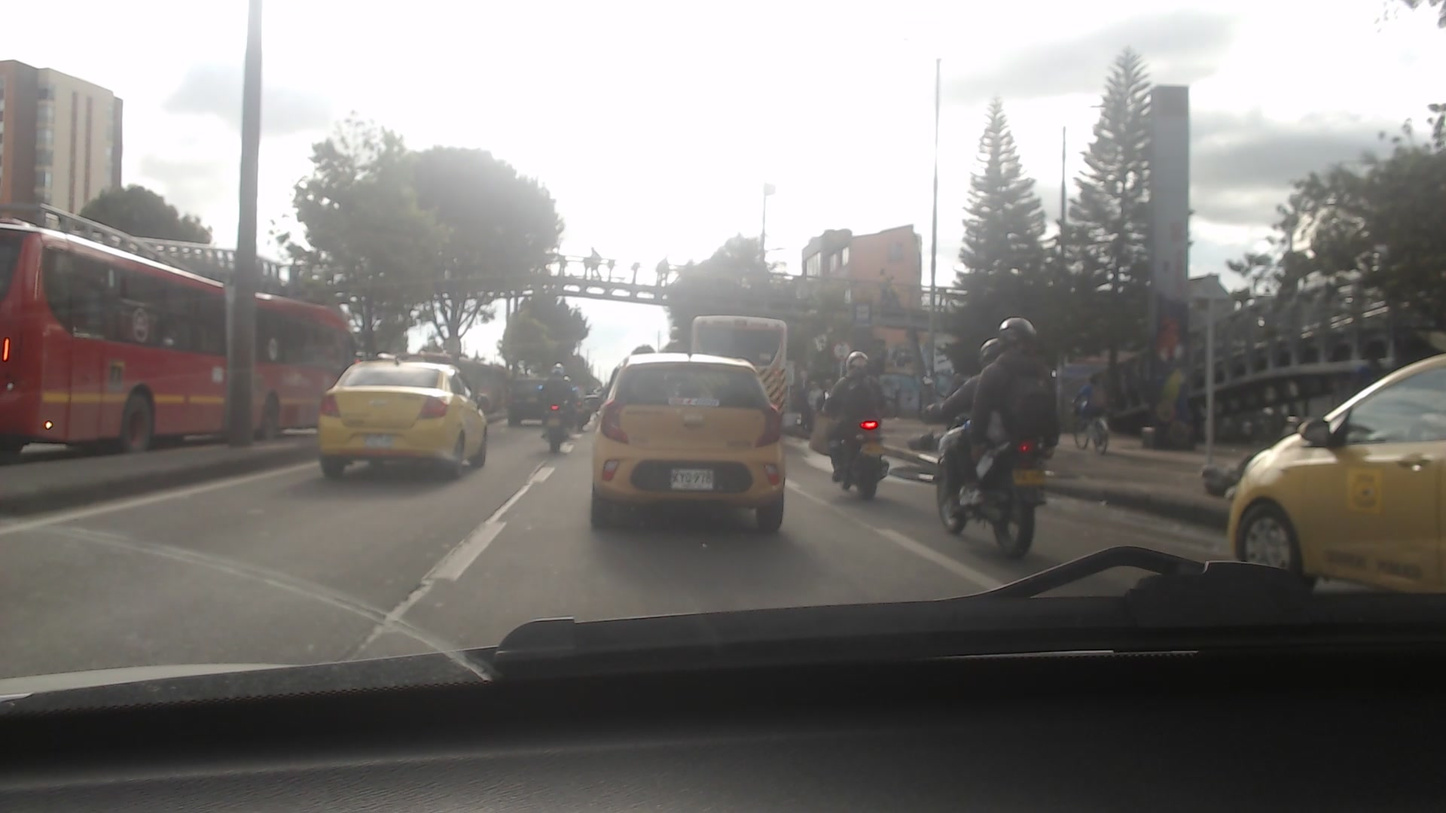bicycle: (1068, 407, 1113, 455)
bus: (685, 316, 787, 419)
car: (1226, 344, 1446, 600), (589, 350, 792, 531), (319, 359, 489, 482)
motorcycle: (923, 395, 1047, 562), (804, 405, 898, 500), (539, 401, 575, 459)
person: (984, 315, 1060, 461), (824, 350, 889, 471), (542, 360, 574, 429), (1080, 366, 1110, 426)
